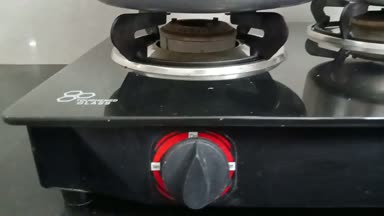noflame_gason: (125, 10, 263, 207)
